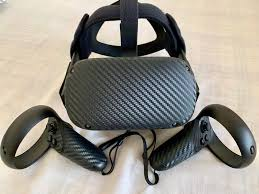oculus: (59, 15, 200, 131)
